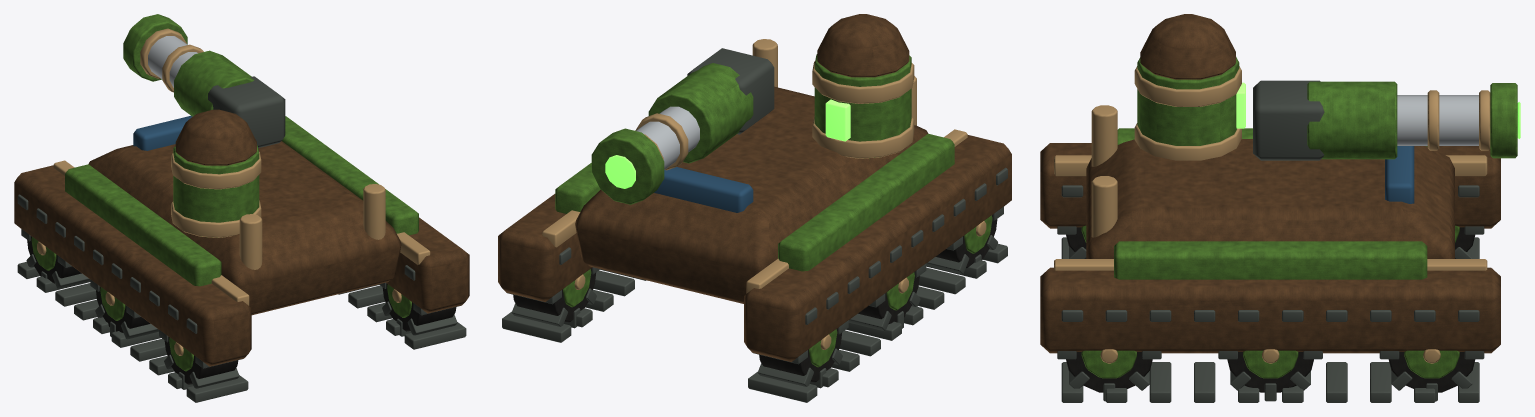
Rendered from vael_vipere.gltf.
3 renders of one model, left to right at view 1: azimuth 30°, elevation 25°; view 2: azimuth 150°, elevation 25°; view 3: azimuth 270°, elevation 25°, orthographic. The views are drawn at different scales.
Visible parts, largest first — view 1: Root.024_Geometry, GunRecoil.005_Geometry, Track_-0.7526_Geometry, GunPitch.008_Geometry, Track_0.7526_Geometry, Wheel_-0.7526_-0.8225_Geometry, Wheel_0.7526_-0.8225_Geometry, Wheel_-0.7526_0_Geometry, Wheel_-0.7526_0.8225_Geometry; view 2: Root.024_Geometry, GunRecoil.005_Geometry, Track_-0.7526_Geometry, Track_0.7526_Geometry, Wheel_-0.7526_0.8225_Geometry, GunPitch.008_Geometry, Wheel_0.7526_0.8225_Geometry, Wheel_-0.7526_0_Geometry, Wheel_-0.7526_-0.8225_Geometry; view 3: Root.024_Geometry, GunRecoil.005_Geometry, Track_0.7526_Geometry, GunPitch.008_Geometry, Wheel_0.7526_0_Geometry, Wheel_0.7526_0.8225_Geometry, Wheel_0.7526_-0.8225_Geometry, Track_-0.7526_Geometry, Wheel_-0.7526_-0.8225_Geometry, Wheel_-0.7526_0.8225_Geometry.
Part boxes in pixels (x1,y1,x2,y2): Root.024_Geometry: (14, 109, 469, 366); GunRecoil.005_Geometry: (123, 14, 254, 116); Track_-0.7526_Geometry: (17, 194, 248, 402); GunPitch.008_Geometry: (208, 76, 285, 147); Track_0.7526_Geometry: (338, 265, 466, 349); Wheel_-0.7526_-0.8225_Geometry: (159, 330, 243, 389); Wheel_0.7526_-0.8225_Geometry: (379, 282, 461, 336); Wheel_-0.7526_0_Geometry: (90, 279, 158, 339); Wheel_-0.7526_0.8225_Geometry: (21, 229, 90, 288); Root.024_Geometry: (498, 14, 1011, 361); GunRecoil.005_Geometry: (591, 63, 753, 204); Track_-0.7526_Geometry: (748, 167, 1007, 402); Track_0.7526_Geometry: (502, 247, 646, 342); Wheel_-0.7526_0.8225_Geometry: (753, 320, 848, 388); GunPitch.008_Geometry: (687, 48, 774, 134); Wheel_0.7526_0.8225_Geometry: (507, 267, 600, 328); Wheel_-0.7526_0_Geometry: (848, 263, 926, 331); Wheel_-0.7526_-0.8225_Geometry: (926, 206, 1003, 274); Root.024_Geometry: (1040, 14, 1500, 353); GunRecoil.005_Geometry: (1307, 81, 1520, 159); Track_0.7526_Geometry: (1061, 310, 1479, 402); GunPitch.008_Geometry: (1253, 80, 1324, 160); Wheel_0.7526_0_Geometry: (1218, 349, 1322, 401); Wheel_0.7526_0.8225_Geometry: (1379, 349, 1484, 401); Wheel_0.7526_-0.8225_Geometry: (1057, 349, 1161, 401); Track_-0.7526_Geometry: (1061, 185, 1479, 258); Wheel_-0.7526_-0.8225_Geometry: (1057, 225, 1086, 258); Wheel_-0.7526_0.8225_Geometry: (1455, 225, 1484, 258).
Bounding box in the file's own units: 1.88 × 1.54 × 2.45.
Materials: 8 (3 with a texture image).
